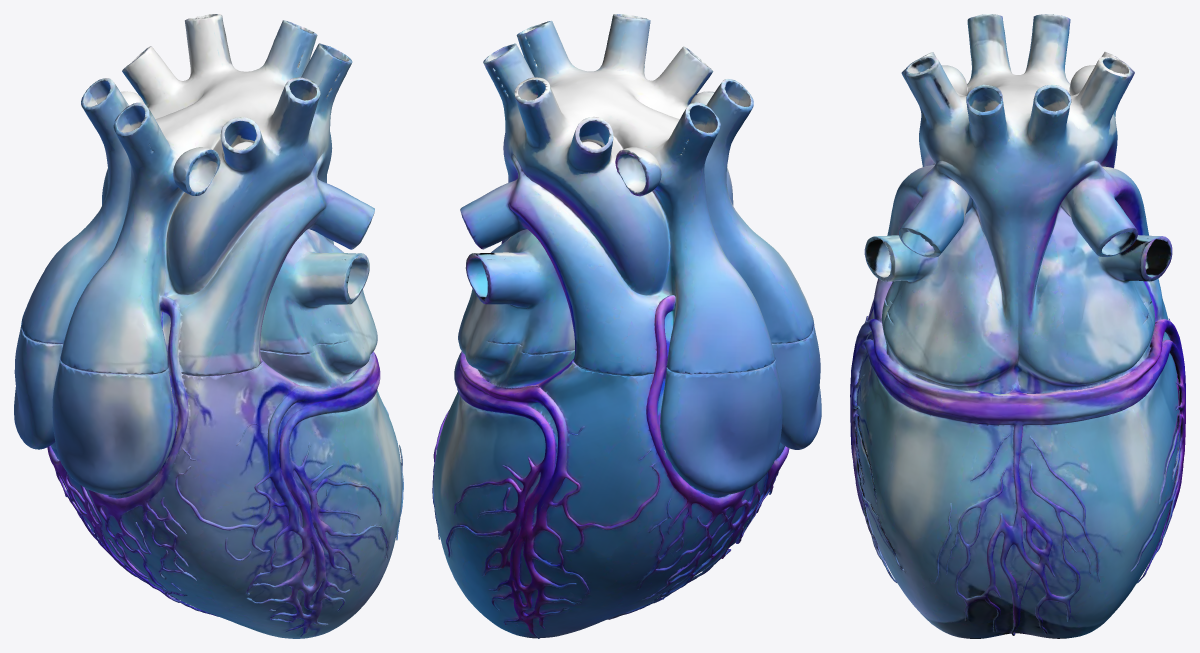
The model's file is heart.glb.
3 views of the same model, side by side, from view 1: azimuth 30°, elevation 25°; view 2: azimuth 150°, elevation 25°; view 3: azimuth 270°, elevation 25° (orthographic). The views are drawn at different scales.
Visible parts, largest first — view 1: mesh_0; view 2: mesh_0; view 3: mesh_0.
Boxes of the visible parts, <box> form: mesh_0: <box>14,14,403,638</box>; mesh_0: <box>432,14,821,638</box>; mesh_0: <box>850,14,1185,638</box>.
Bounding box in the file's own units: 0.6077 × 1 × 0.5427.
1 material, 1 textured.
